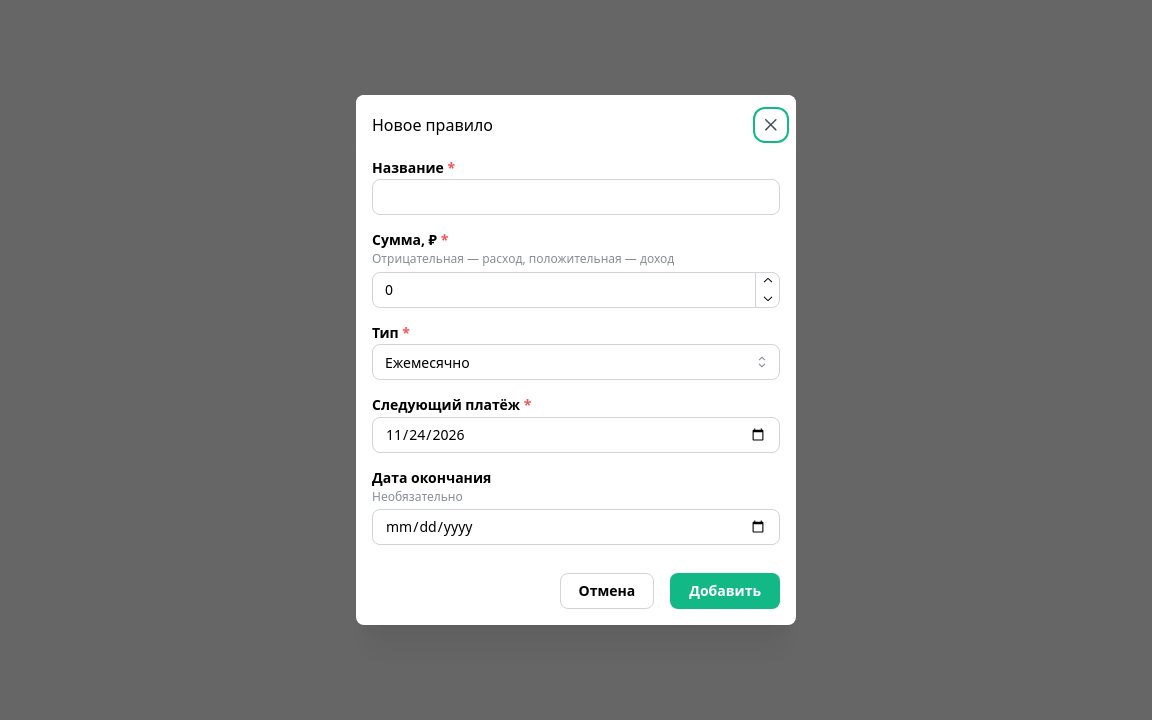
PaymentRuleFormModal › не отправляет форму без названия
Click the button "Добавить" at {"x": 725, "y": 591}, box [670,573,780,609]
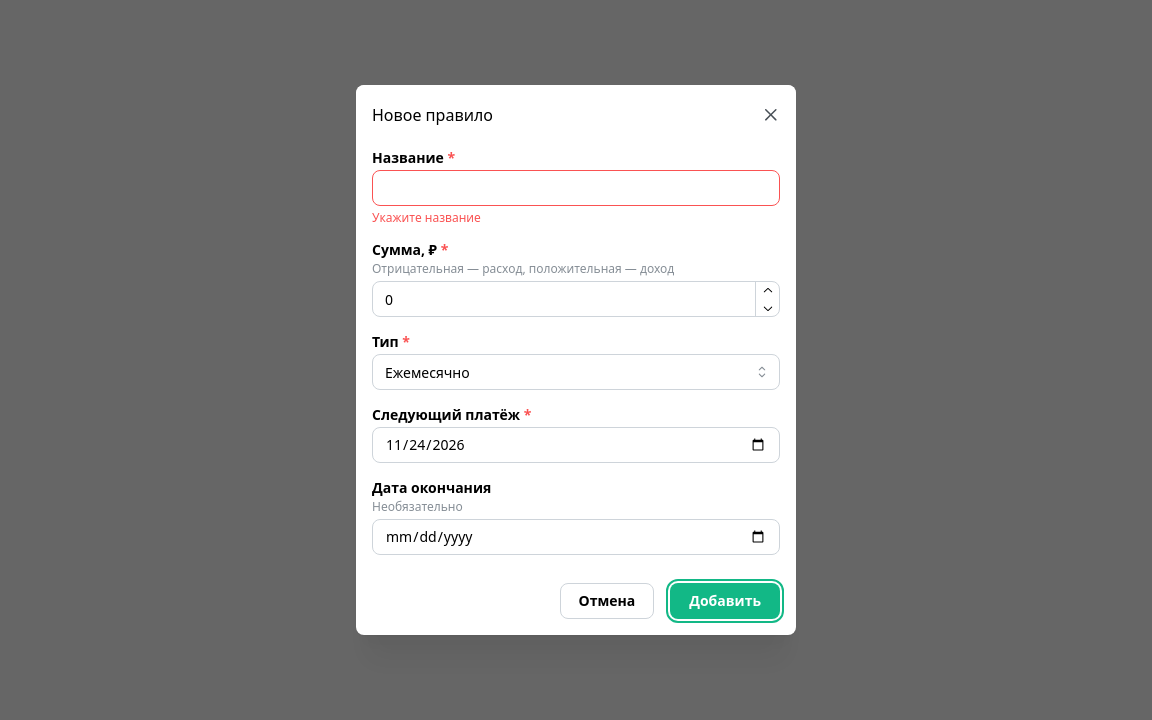
Now the text "Укажите название" is shown, box [372,209,481,226]
